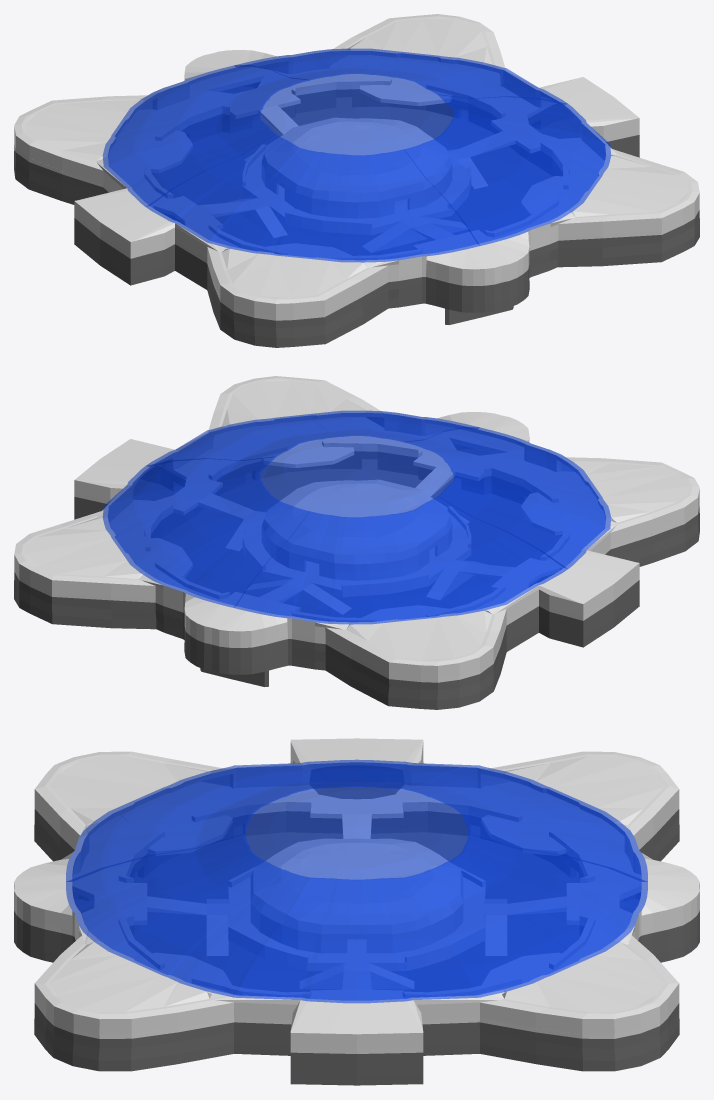
Rendered from SpaceMap.fbx.
The picture shows the model from 3 angles, top to bottom: view 1: azimuth 30°, elevation 25°; view 2: azimuth 150°, elevation 25°; view 3: azimuth 270°, elevation 25°; orthographic projection. The views are drawn at different scales.
Visible parts, largest first — view 1: Ceiling, Floor2RoofCurve.001, Floor2RoofCurve.002, Floor2RoofCurve.003, Floor2RoofCurve, MainBuildingHouse.002, Level2FloorCurveSection2.003, MainBuildingHouse.001, Floor1CurveRoomWalls.002, Level2FloorSmall, Floor2WallsCurve.001, Level2FloorCurveSection2 (+59 smaller); view 2: Ceiling, Floor2RoofCurve, Floor2RoofCurve.003, Floor2RoofCurve.002, Floor2RoofCurve.001, MainBuildingHouse, Level2FloorCurveSection2.002, MainBuildingHouse.003, Floor1CurveRoomWalls.003, Level2FloorSmall.001, Floor2WallsCurve, Level2FloorCurveSection2.001 (+58 smaller); view 3: Ceiling, Floor2RoofCurve.002, Floor2RoofCurve.003, Floor2RoofCurve, Floor2RoofCurve.001, MainBuildingHouse.001, MainBuildingHouse.003, Level2FloorCurveSection2, Level2FloorCurveSection2.001, Floor1CurveRoomWalls, Floor1CurveRoomWalls.001, Floor2LargeRoof (+74 smaller).
Part boxes in pixels (<box>): Ceiling: <box>102,48,611,262</box>; Floor2RoofCurve.001: <box>175,222,426,303</box>; Floor2RoofCurve.002: <box>525,123,699,234</box>; Floor2RoofCurve.003: <box>287,14,538,92</box>; Floor2RoofCurve: <box>14,80,188,188</box>; MainBuildingHouse.002: <box>281,148,401,217</box>; Level2FloorCurveSection2.003: <box>380,61,534,118</box>; MainBuildingHouse.001: <box>357,135,451,209</box>; Floor1CurveRoomWalls.002: <box>207,264,388,338</box>; Level2FloorSmall: <box>188,67,300,118</box>; Floor2WallsCurve.001: <box>175,227,426,316</box>; Level2FloorCurveSection2: <box>14,132,192,203</box>; Ceiling: <box>102,410,611,624</box>; Floor2RoofCurve: <box>287,584,538,665</box>; Floor2RoofCurve.003: <box>14,485,188,596</box>; Floor2RoofCurve.002: <box>175,376,426,454</box>; Floor2RoofCurve.001: <box>525,442,699,550</box>; MainBuildingHouse: <box>312,510,432,579</box>; Level2FloorCurveSection2.002: <box>179,423,333,480</box>; MainBuildingHouse.003: <box>262,497,356,571</box>; Floor1CurveRoomWalls.003: <box>325,626,506,700</box>; Level2FloorSmall.001: <box>413,429,525,480</box>; Floor2WallsCurve: <box>287,589,538,678</box>; Level2FloorCurveSection2.001: <box>521,494,699,565</box>; Ceiling: <box>66,759,647,1003</box>; Floor2RoofCurve.002: <box>35,910,301,1019</box>; Floor2RoofCurve.003: <box>412,910,678,1019</box>; Floor2RoofCurve: <box>411,751,678,856</box>; Floor2RoofCurve.001: <box>35,751,302,856</box>; MainBuildingHouse.001: <box>251,873,356,952</box>; MainBuildingHouse.003: <box>357,873,462,952</box>; Level2FloorCurveSection2: <box>403,782,592,851</box>; Level2FloorCurveSection2.001: <box>121,782,310,851</box>; Floor1CurveRoomWalls: <box>479,1003,679,1060</box>; Floor1CurveRoomWalls.001: <box>34,1003,234,1060</box>; Floor2LargeRoof: <box>290,998,423,1034</box>.
Size of the model in its own units: 15702 by 3472 by 15381.
